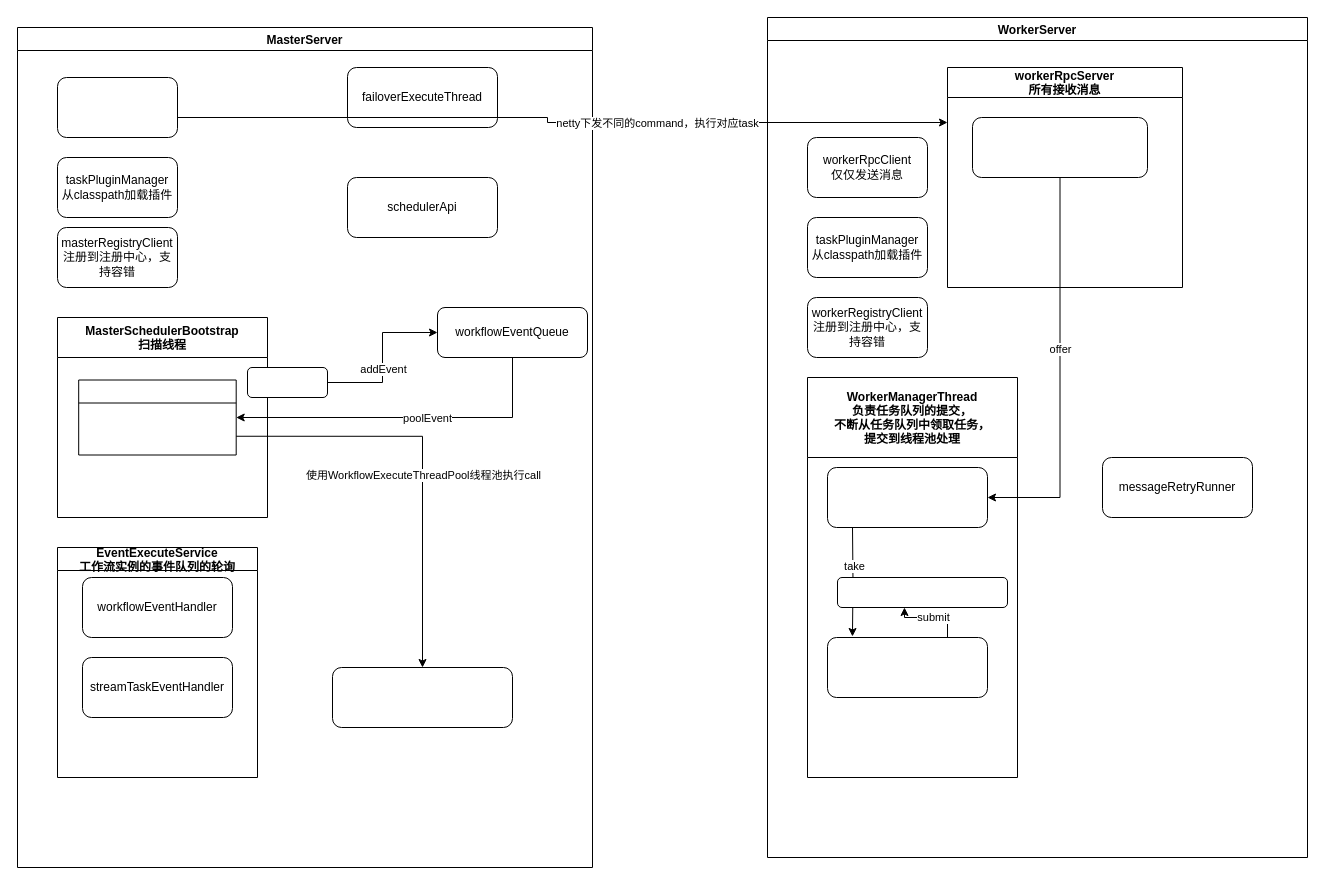
Some shapes in this 1325 by 885 pixel diagram are drawn without their labels. Here are the shapes that lost their labels. From the top down, the centre of each, then its label:
At point 117,107: "masterRPCServer 启动nettyServer".
At point 1060,147: "TaskDispatchProcessor CommandType: TASK_DISPATCH_REQUEST".
At point 287,382: "从DB查找commands".
At point 157,417: "WorkflowEventLooper".
At point 907,497: "waitSubmitQueue".
At point 922,592: "workerDelayTaskExecuteRunnable".
At point 907,667: "workerExecService 线程池：固定后台线程10个".
At point 422,697: "WorkflowExecuteRunnable 负责DAG任务切分、任务提交监控、各种不同事件类型的逻辑处理".
